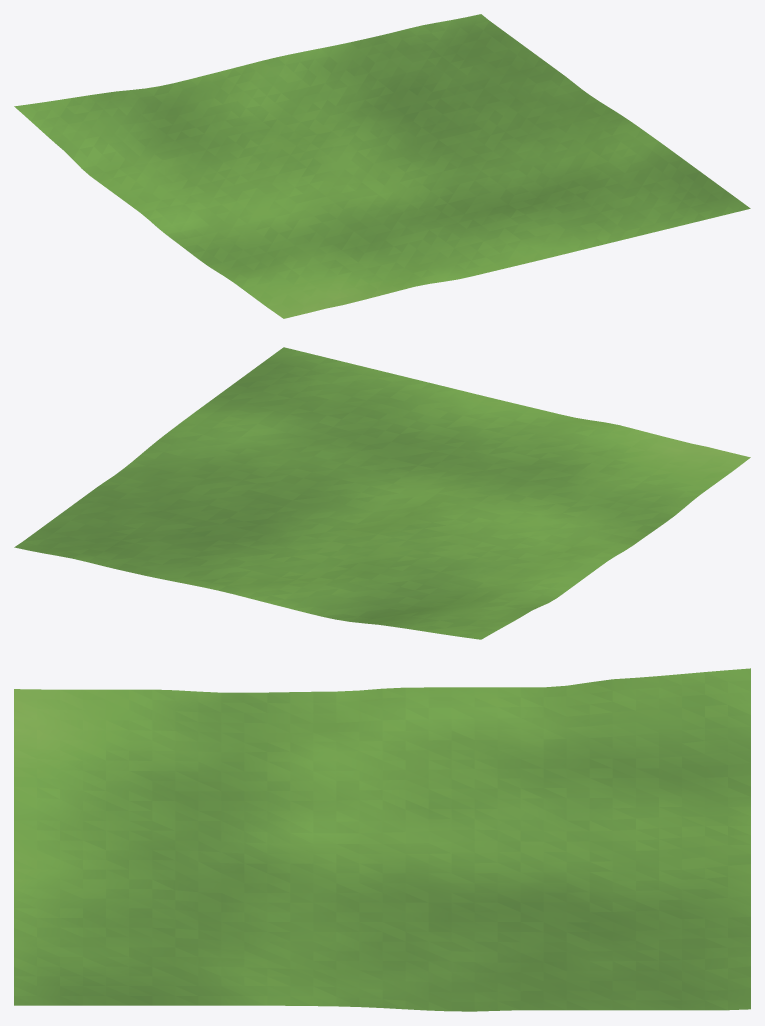
Rendered from terrain_r3_c2.glb.
3 renders of one model, top to bottom at view 1: azimuth 30°, elevation 25°; view 2: azimuth 150°, elevation 25°; view 3: azimuth 270°, elevation 25°, orthographic. The views are drawn at different scales.
Parts seen in each view (by area): view 1: terrain_r3_c2; view 2: terrain_r3_c2; view 3: terrain_r3_c2.
Part boxes in pixels (x1,y1,x2,y2): terrain_r3_c2: [14, 14, 750, 318]; terrain_r3_c2: [14, 347, 750, 639]; terrain_r3_c2: [14, 668, 750, 1011].
Size of the model in its own units: 128 by 6.11 by 128.
Materials: 1 (1 with a texture image).
